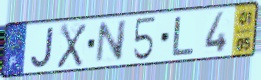4: (203, 10, 229, 55)
5: (132, 15, 159, 62)
J: (29, 25, 56, 69)
L: (170, 15, 196, 58)
N: (94, 18, 129, 66)
X: (55, 22, 88, 70)
